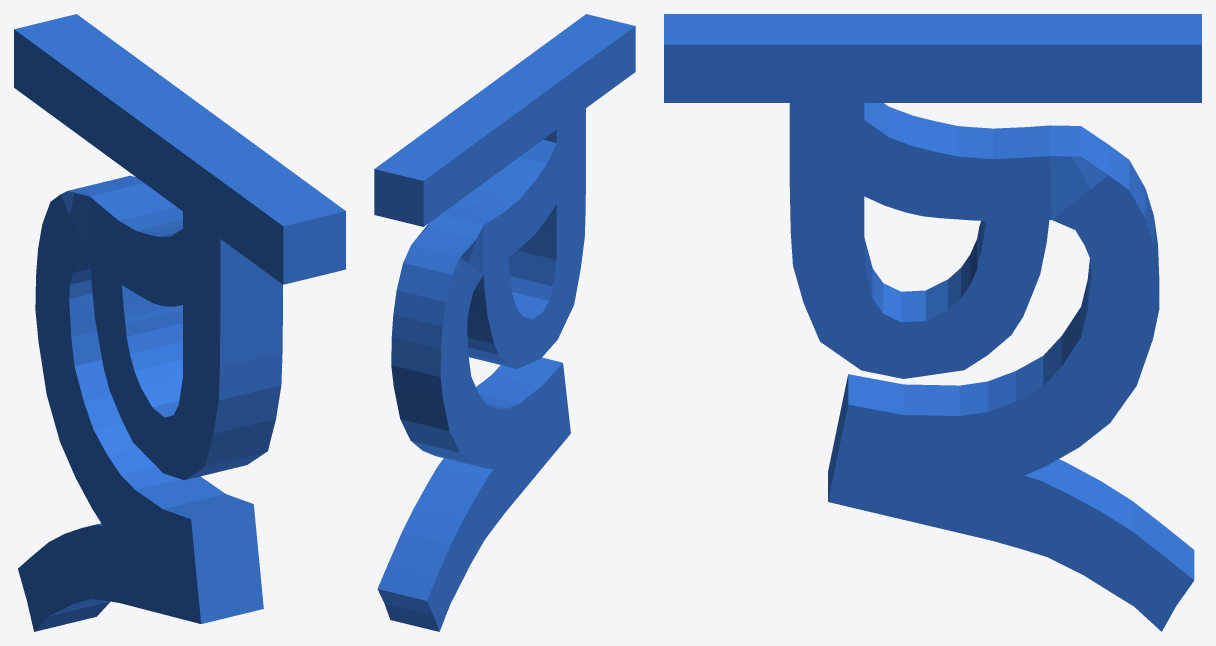
3 views of the same model, side by side, from view 1: azimuth 30°, elevation 25°; view 2: azimuth 150°, elevation 25°; view 3: azimuth 270°, elevation 25° (orthographic). The views are drawn at different scales.
Parts seen in each view (by area): view 1: Cube; view 2: Cube; view 3: Cube.
Part boxes in pixels (x1,y1,x2,y2): Cube: (14, 14, 345, 631); Cube: (374, 14, 635, 631); Cube: (664, 14, 1201, 631).
Bounding box in the file's own units: 223 × 1793 × 1488.
